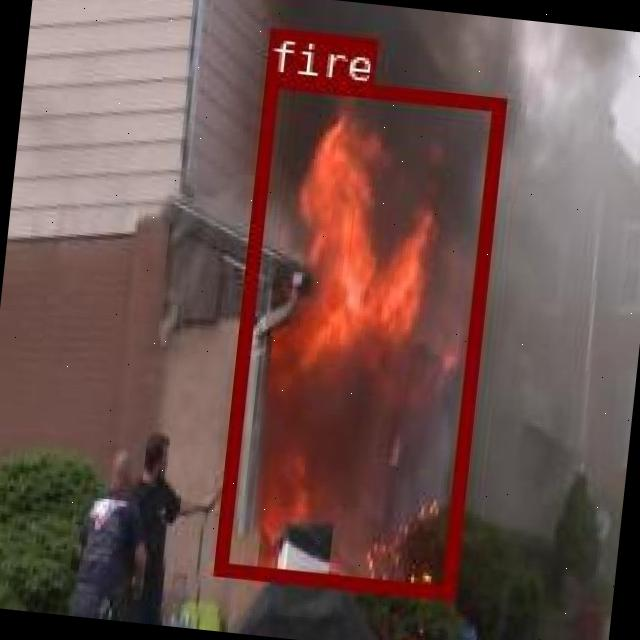fire: (211, 72, 503, 596)
